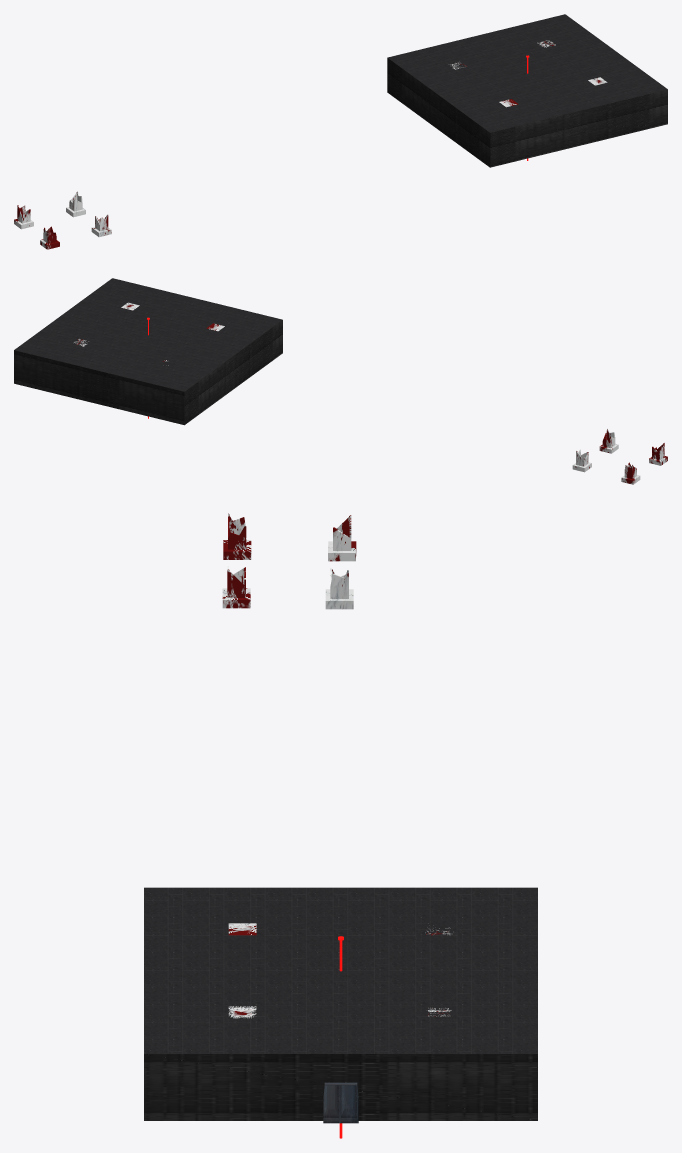
Rendered from room.gltf.
3 views of the same model, one above another, from view 1: azimuth 30°, elevation 25°; view 2: azimuth 150°, elevation 25°; view 3: azimuth 270°, elevation 25° (orthographic). The views are drawn at different scales.
Parts seen in each view (by area): view 1: Cieling, Wall.004, Wall.002; view 2: Cieling, Wall.003, Wall.002; view 3: Cieling, Wall.001, Door, BrokenPillar.004, BrokenPillar.002, BrokenPillar.003, BrokenPillar.001.
Part boxes in pixels (<box>): Cieling: <box>388,14,667,132</box>; Wall.004: <box>490,89,667,167</box>; Wall.002: <box>387,58,489,167</box>; Cieling: <box>14,278,282,391</box>; Wall.003: <box>14,350,184,425</box>; Wall.002: <box>184,320,282,424</box>; Cieling: <box>144,887,537,1053</box>; Wall.001: <box>144,1054,537,1120</box>; Door: <box>323,1082,358,1123</box>; BrokenPillar.004: <box>223,513,251,559</box>; BrokenPillar.002: <box>328,515,356,561</box>; BrokenPillar.003: <box>222,566,250,608</box>; BrokenPillar.001: <box>325,568,353,609</box>.
Size of the model in its own units: 109 by 18 by 32.04.
